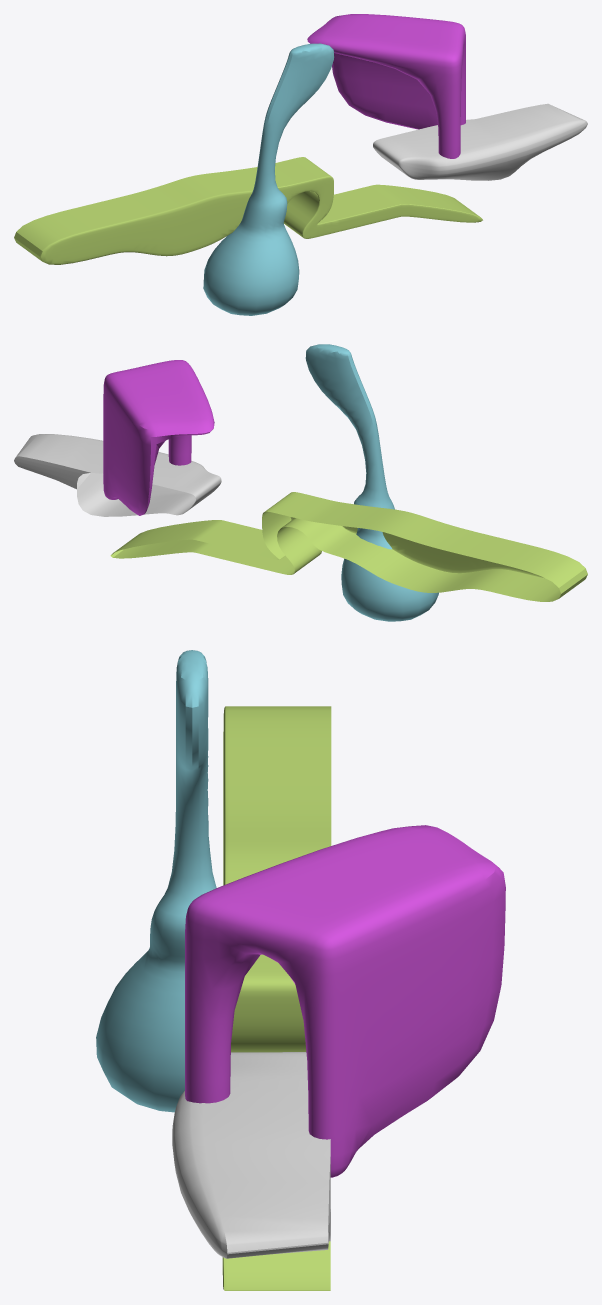
File: SpawnLokace_1.fbx
3 views of the same model, one above another, from view 1: azimuth 30°, elevation 25°; view 2: azimuth 150°, elevation 25°; view 3: azimuth 270°, elevation 25° (orthographic). The views are drawn at different scales.
Parts seen in each view (by area): view 1: Cube.016; view 2: Cube.016; view 3: Cube.016.
Boxes of the visible parts, x1,y1,x2,y2 form: Cube.016: [14, 14, 587, 315]; Cube.016: [14, 344, 587, 621]; Cube.016: [96, 650, 505, 1290].
Size of the model in its own units: 16261 by 7004 by 5265.
